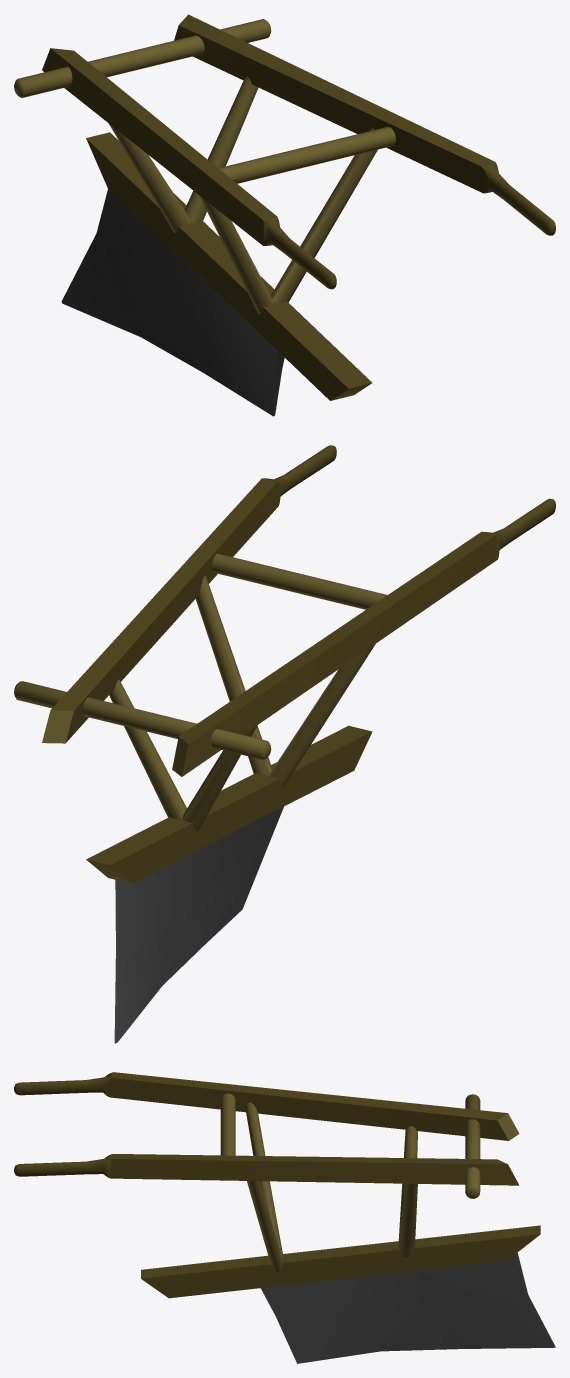
File: Ploughs.fbx
The picture shows the model from 3 angles, top to bottom: view 1: azimuth 30°, elevation 25°; view 2: azimuth 150°, elevation 25°; view 3: azimuth 270°, elevation 25°; orthographic projection. The views are drawn at different scales.
Parts seen in each view (by area): view 1: Plough01A; view 2: Plough01A; view 3: Plough01A.
Boxes of the visible parts, left/top/right/bottom form: Plough01A: left=14, top=14, right=555, bottom=416; Plough01A: left=14, top=445, right=555, bottom=1043; Plough01A: left=14, top=1072, right=555, bottom=1363.
Bounding box in the file's own units: 0.4664 × 0.5664 × 1.15.
